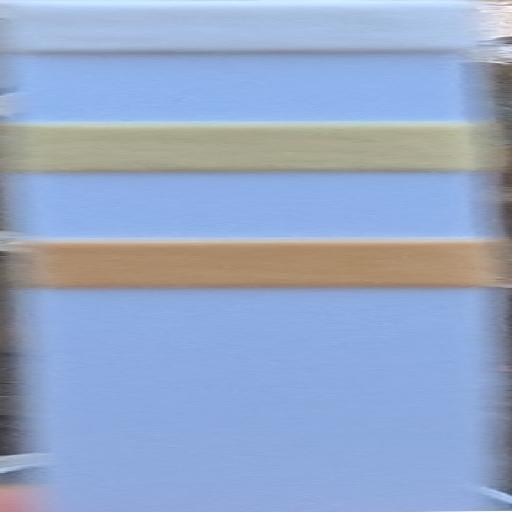pads: (0, 115, 503, 177), (0, 0, 512, 56), (0, 237, 512, 291)
